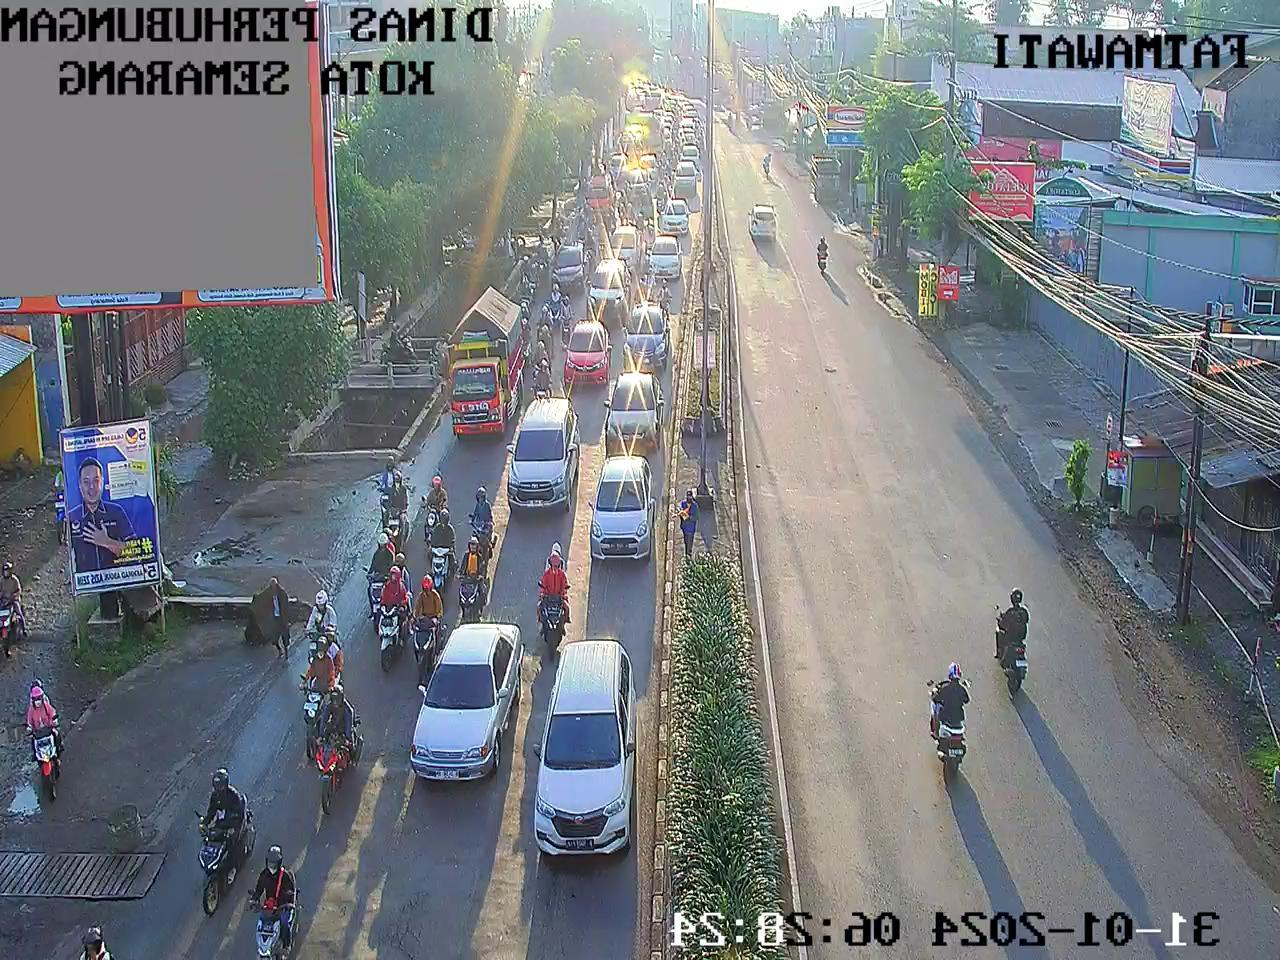car: (529, 635, 642, 862), (407, 621, 527, 785), (503, 394, 581, 515), (587, 454, 659, 566), (600, 371, 666, 461), (621, 307, 676, 373), (562, 320, 615, 389), (587, 259, 631, 322), (602, 224, 643, 273), (551, 241, 589, 294), (653, 198, 689, 239), (651, 234, 681, 283), (665, 162, 698, 197), (583, 173, 609, 214), (620, 170, 649, 201), (639, 152, 658, 184), (607, 151, 627, 179), (682, 144, 700, 165), (683, 132, 698, 149), (677, 126, 695, 137), (681, 116, 698, 127), (686, 106, 699, 117), (660, 119, 671, 130), (680, 101, 693, 109), (662, 105, 675, 112), (677, 95, 688, 103), (664, 97, 673, 106), (663, 110, 673, 116)
motorcycle: (187, 766, 257, 921), (307, 688, 363, 821), (246, 845, 304, 960), (297, 629, 343, 766), (534, 539, 574, 653), (377, 557, 413, 669), (362, 531, 401, 634), (410, 573, 444, 680), (453, 535, 489, 627), (302, 588, 339, 672), (463, 487, 497, 567), (419, 471, 447, 555), (374, 449, 401, 527), (429, 508, 455, 592), (383, 474, 409, 547), (74, 923, 114, 960), (531, 360, 551, 402), (546, 283, 561, 330), (536, 301, 552, 339), (536, 323, 551, 361), (631, 277, 649, 308), (562, 297, 573, 347), (518, 316, 529, 364), (659, 277, 672, 317), (653, 183, 668, 215), (645, 265, 658, 301), (518, 253, 531, 287), (581, 231, 595, 261), (535, 338, 548, 370), (535, 242, 548, 273), (518, 279, 533, 306), (558, 220, 569, 255), (515, 303, 533, 322), (568, 200, 583, 224), (527, 262, 538, 292), (597, 147, 609, 171), (632, 217, 647, 236), (659, 153, 672, 173), (597, 227, 605, 254), (664, 167, 676, 186), (625, 205, 635, 225), (606, 213, 617, 231), (615, 202, 623, 226), (671, 147, 678, 170), (673, 138, 681, 155), (613, 135, 619, 153), (673, 117, 680, 131), (674, 129, 678, 144), (679, 106, 683, 116)
truck: (447, 285, 526, 436), (643, 125, 667, 152)
